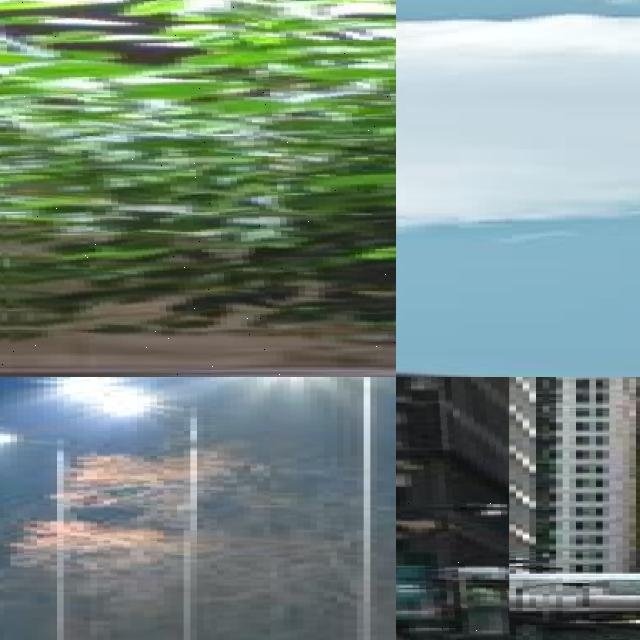street light: (0, 0, 396, 377), (210, 377, 380, 640), (56, 377, 200, 640), (396, 377, 509, 640), (0, 420, 67, 640), (396, 516, 482, 640), (462, 559, 532, 640), (509, 581, 595, 640)
